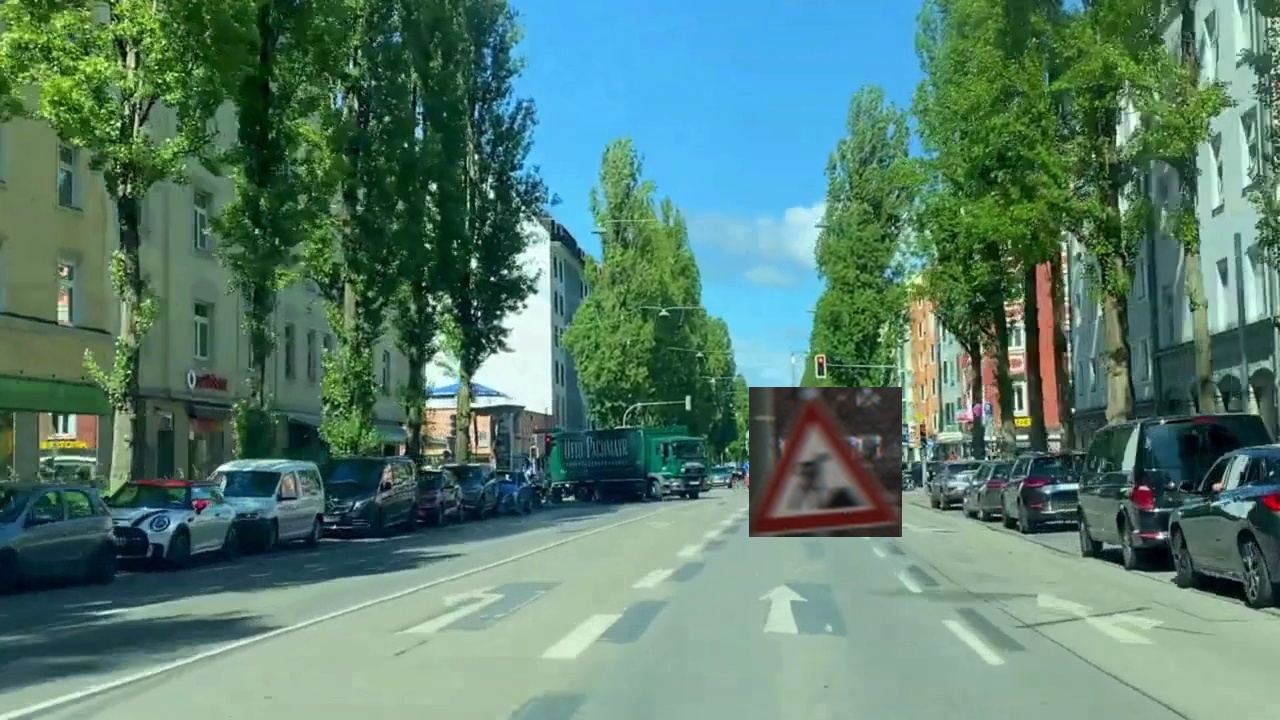Road work: (749, 387, 902, 537)
